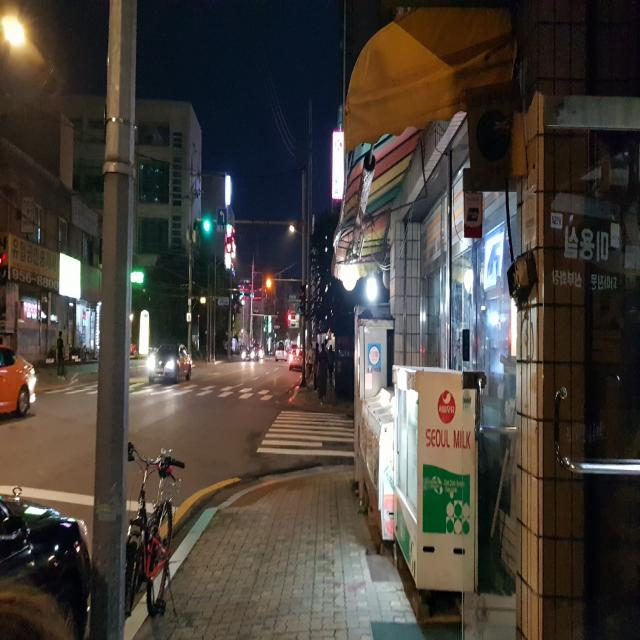횡단보도: (60, 370, 274, 402), (256, 409, 355, 457)
